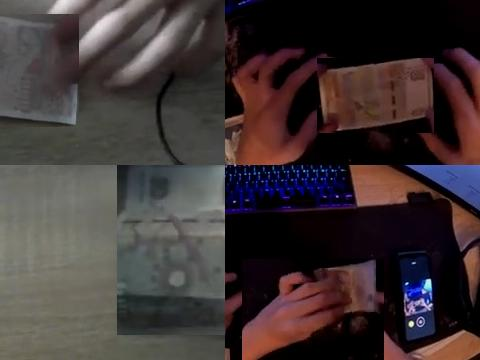10leva: (117, 165, 225, 333)
50leva: (242, 259, 384, 360), (317, 58, 434, 133)
5leva: (0, 15, 79, 127)
